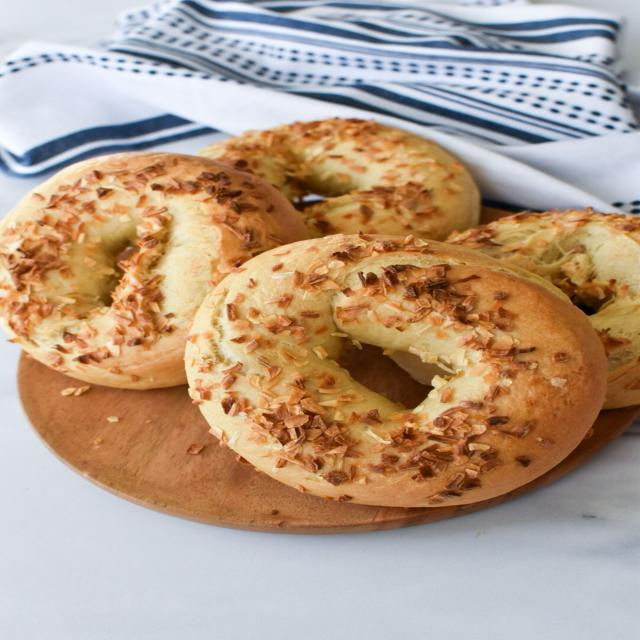Bagel: (186, 235, 608, 506), (2, 152, 309, 389), (450, 209, 640, 409), (199, 118, 480, 240)
